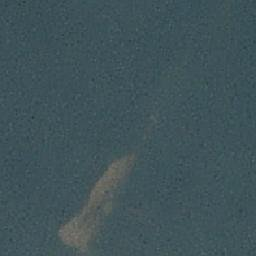debris: (58, 224, 100, 245), (103, 157, 134, 180), (87, 184, 117, 202), (77, 204, 108, 221)
